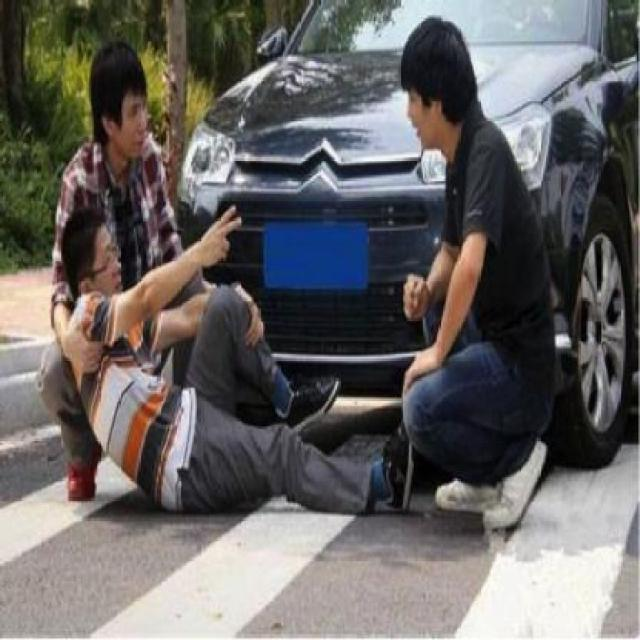fall: (48, 188, 410, 526)
